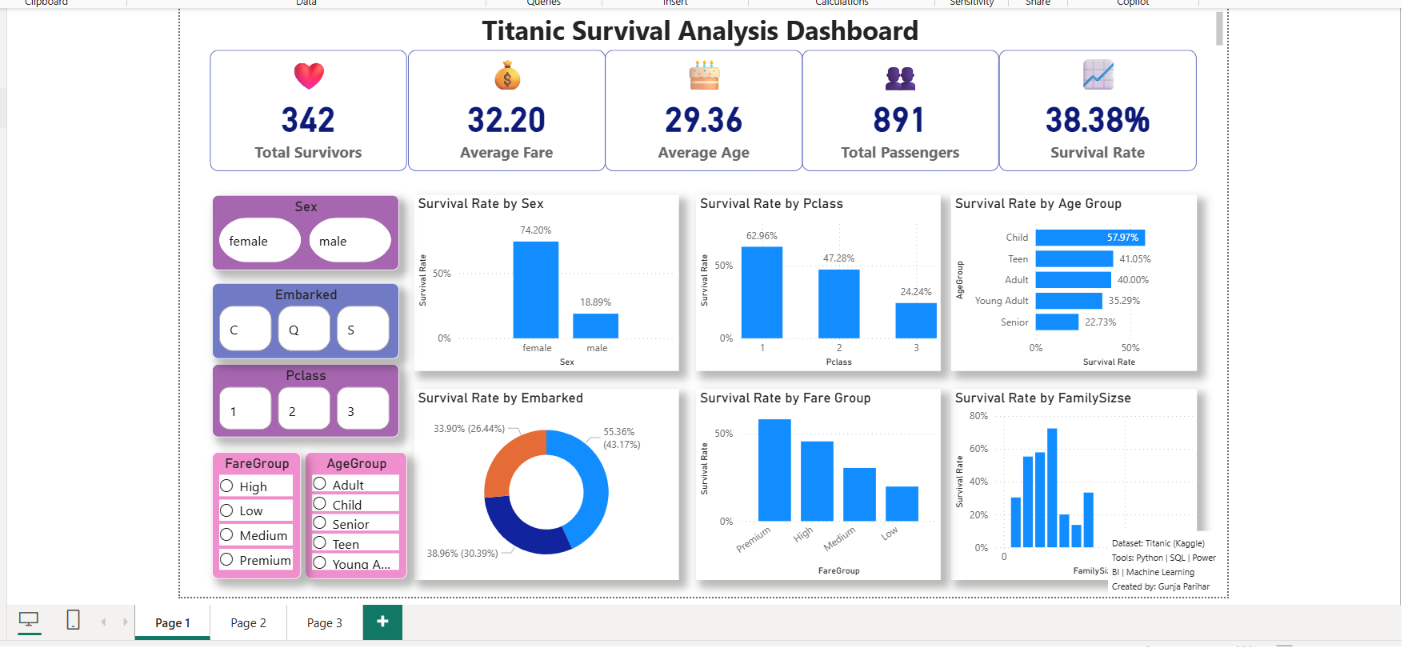

The dashboard page shown, as its layout file describes it:
{"tool":"powerbi","page":{"name":"Page 1","canvas":[1280,720],"ordinal":0},"visuals":[{"type":"card","title":"👥","fields":{"Values":["featured_titanic.Total Passenger"]},"box":[761.1,51.3,240.5,148.1],"z":0},{"type":"card","title":"❤️","fields":{"Values":["featured_titanic.Total Survivors"]},"box":[36.7,51.3,240.5,148.1],"z":1},{"type":"card","title":"📈","fields":{"Values":["featured_titanic.Survival Rate"]},"box":[1001.7,51.3,242,148.1],"z":2},{"type":"card","title":"🎂","fields":{"Values":["featured_titanic.Average Age"]},"box":[519.2,51.3,242,148.1],"z":3},{"type":"card","title":"💰","fields":{"Values":["featured_titanic.Average Fare"]},"box":[278.3,51.1,241.3,147.9],"z":4},{"type":"clusteredColumnChart","fields":{"Category":["featured_titanic.Sex"],"Y":["featured_titanic.Survival Rate"]},"box":[286.1,228.7,324.1,215.2],"z":5},{"type":"clusteredColumnChart","fields":{"Category":["featured_titanic.Pclass"],"Y":["featured_titanic.Survival Rate"]},"box":[631,228.7,299.6,215.2],"z":6},{"type":"clusteredBarChart","title":"Survival Rate by Age Group","fields":{"Category":["featured_titanic.AgeGroup"],"Y":["featured_titanic.Survival Rate"]},"box":[942.8,228.7,300.8,215.2],"z":7},{"type":"donutChart","fields":{"Category":["featured_titanic.Embarked"],"Y":["featured_titanic.Survival Rate"]},"box":[286.1,465.9,324.1,233.6],"z":8},{"type":"clusteredColumnChart","title":"Survival Rate by FamilySizse","fields":{"Category":["featured_titanic.FamilySize"],"Y":["featured_titanic.Survival Rate"]},"box":[942.8,465.9,300.8,233.6],"z":9},{"type":"clusteredColumnChart","title":"Survival Rate by Fare Group","fields":{"Category":["featured_titanic.FareGroup"],"Y":["featured_titanic.Survival Rate"]},"box":[631,465.9,299.6,233.6],"z":10},{"type":"advancedSlicerVisual","fields":{"Values":["featured_titanic.Sex"]},"box":[39.1,228.7,228.7,91.7],"z":11},{"type":"advancedSlicerVisual","fields":{"Values":["featured_titanic.Pclass"]},"box":[39.1,435.3,228.7,89.3],"z":12},{"type":"advancedSlicerVisual","fields":{"Values":["featured_titanic.Embarked"]},"box":[39.1,336.3,228.7,92.9],"z":13},{"type":"listSlicer","fields":{"Values":["featured_titanic.AgeGroup"]},"box":[152.9,542.9,124.7,155.3],"z":14},{"type":"listSlicer","fields":{"Values":["featured_titanic.FareGroup"]},"box":[39.1,542.9,108.8,155.3],"z":15},{"type":"textbox","box":[0,0,1280.3,51.3],"z":17},{"type":"textbox","box":[1134.8,639.5,145.5,80.7],"z":18}]}

Visuals, with their boxes on the page's 1280x720 design canvas (x1, y1, x2, y2). These are canvas units, not pixel positions in the 1402x647 screenshot, which may show the page scaled, cropped or inside an application window:
"👥" card: [761, 51, 1002, 199]
"❤️" card: [37, 51, 277, 199]
"📈" card: [1002, 51, 1244, 199]
"🎂" card: [519, 51, 761, 199]
"💰" card: [278, 51, 520, 199]
clusteredColumnChart - featured_titanic.Sex x featured_titanic.Survival Rate: [286, 229, 610, 444]
clusteredColumnChart - featured_titanic.Pclass x featured_titanic.Survival Rate: [631, 229, 931, 444]
"Survival Rate by Age Group" clusteredBarChart: [943, 229, 1244, 444]
donutChart - featured_titanic.Embarked x featured_titanic.Survival Rate: [286, 466, 610, 700]
"Survival Rate by FamilySizse" clusteredColumnChart: [943, 466, 1244, 700]
"Survival Rate by Fare Group" clusteredColumnChart: [631, 466, 931, 700]
advancedSlicerVisual - featured_titanic.Sex: [39, 229, 268, 320]
advancedSlicerVisual - featured_titanic.Pclass: [39, 435, 268, 525]
advancedSlicerVisual - featured_titanic.Embarked: [39, 336, 268, 429]
listSlicer - featured_titanic.AgeGroup: [153, 543, 278, 698]
listSlicer - featured_titanic.FareGroup: [39, 543, 148, 698]
textbox: [0, 0, 1280, 51]
textbox: [1135, 640, 1280, 720]
